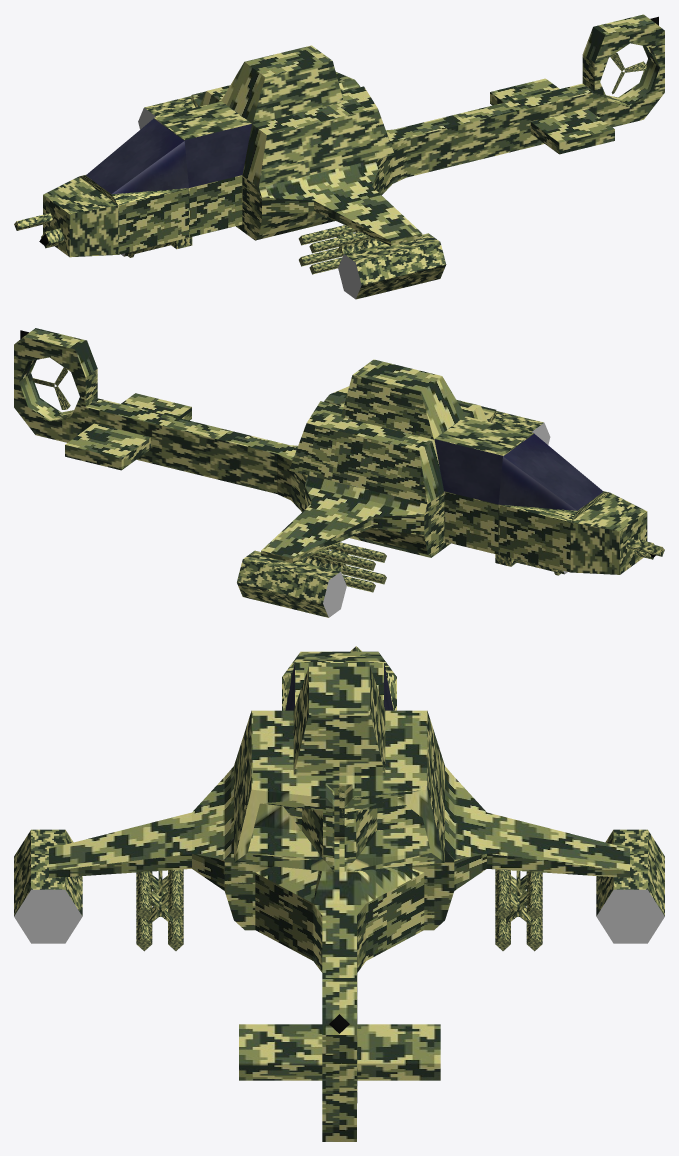
The model's file is helicoptero.obj.
3 renders of one model, top to bottom at view 1: azimuth 30°, elevation 25°; view 2: azimuth 150°, elevation 25°; view 3: azimuth 270°, elevation 25°, orthographic. The views are drawn at different scales.
Parts seen in each view (by area): view 1: ??, ??.002, ??????.001, ??????.002, ??.008, ??.005, ??.007; view 2: ??, ??.002, ??????.002, ??????.001, ??.012, ??.009, ??.011; view 3: ??, ??????.001, ??????.002, ??.002, ??????, ??????.000, ??.008, ??.012, ??.005, ??.009.
Boxes of the visible parts, x1=… form: ??: x1=191, y1=14, x2=664, y2=245; ??.002: x1=43, y1=101, x2=251, y2=257; ??????.001: x1=338, y1=233, x2=446, y2=299; ??????.002: x1=138, y1=96, x2=195, y2=129; ??.008: x1=309, y1=232, x2=373, y2=253; ??.005: x1=298, y1=225, x2=355, y2=245; ??.007: x1=299, y1=241, x2=385, y2=266; ??: x1=14, y1=328, x2=496, y2=563; ??.002: x1=434, y1=416, x2=647, y2=574; ??????.002: x1=237, y1=550, x2=346, y2=617; ??????.001: x1=492, y1=411, x2=550, y2=444; ??.012: x1=310, y1=549, x2=375, y2=570; ??.009: x1=329, y1=542, x2=386, y2=562; ??.011: x1=298, y1=559, x2=386, y2=584; ??: x1=49, y1=666, x2=629, y2=1141; ??????.001: x1=14, y1=829, x2=82, y2=943; ??????.002: x1=596, y1=829, x2=664, y2=943; ??.002: x1=282, y1=651, x2=396, y2=710; ??????: x1=147, y1=871, x2=172, y2=924; ??????.000: x1=506, y1=871, x2=531, y2=924; ??.008: x1=136, y1=871, x2=152, y2=920; ??.012: x1=526, y1=871, x2=542, y2=920; ??.005: x1=168, y1=869, x2=183, y2=920; ??.009: x1=495, y1=869, x2=510, y2=920.
Bounding box in the file's own units: 405 × 94.48 × 247.
